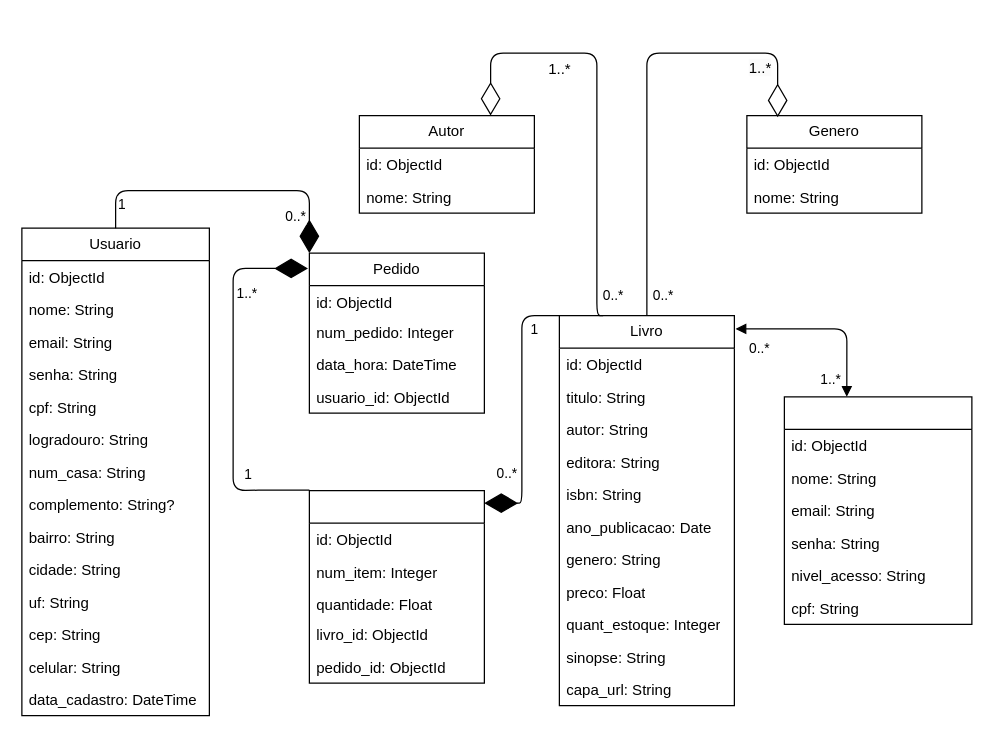
Image size: 994x741. Some labels were removed from this diagram. The shapes that lost their labels are listed below. From the top down, each one's box as (x1, y1, x2, y2) in pixels, then its label:
(783, 396, 972, 624): Admin
(308, 489, 484, 683): Carrinho
